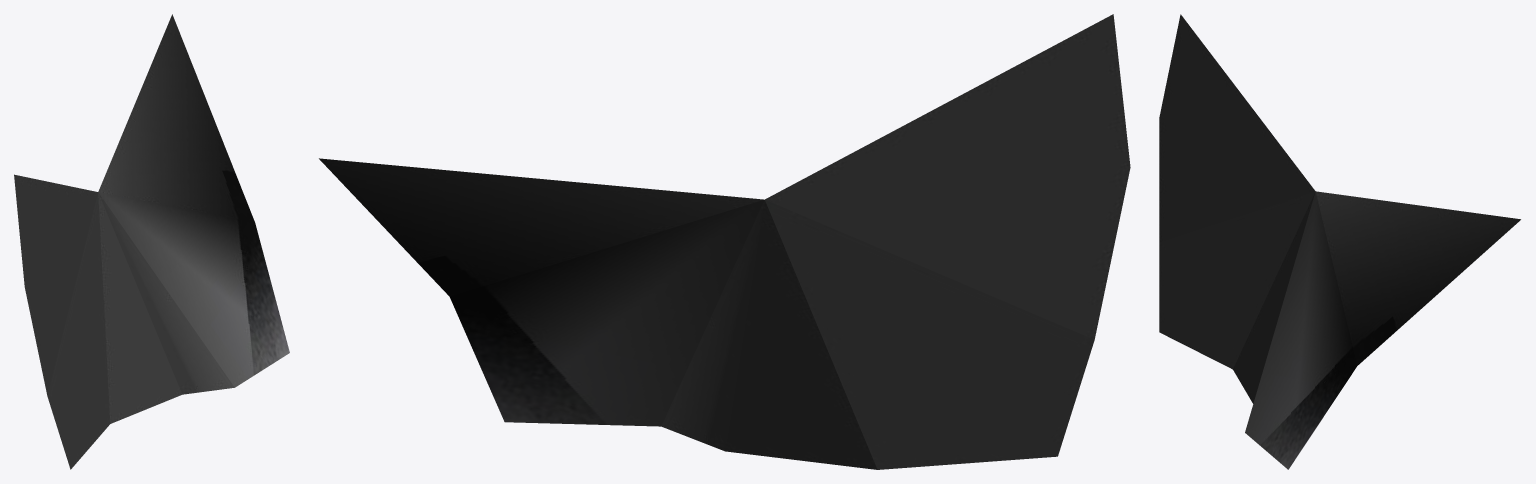
3 renders of one model, left to right at view 1: azimuth 30°, elevation 25°; view 2: azimuth 150°, elevation 25°; view 3: azimuth 270°, elevation 25°, orthographic. The views are drawn at different scales.
Size of the model in its own units: 2.95 by 2.55 by 2.83.
3 materials, 3 textured.
